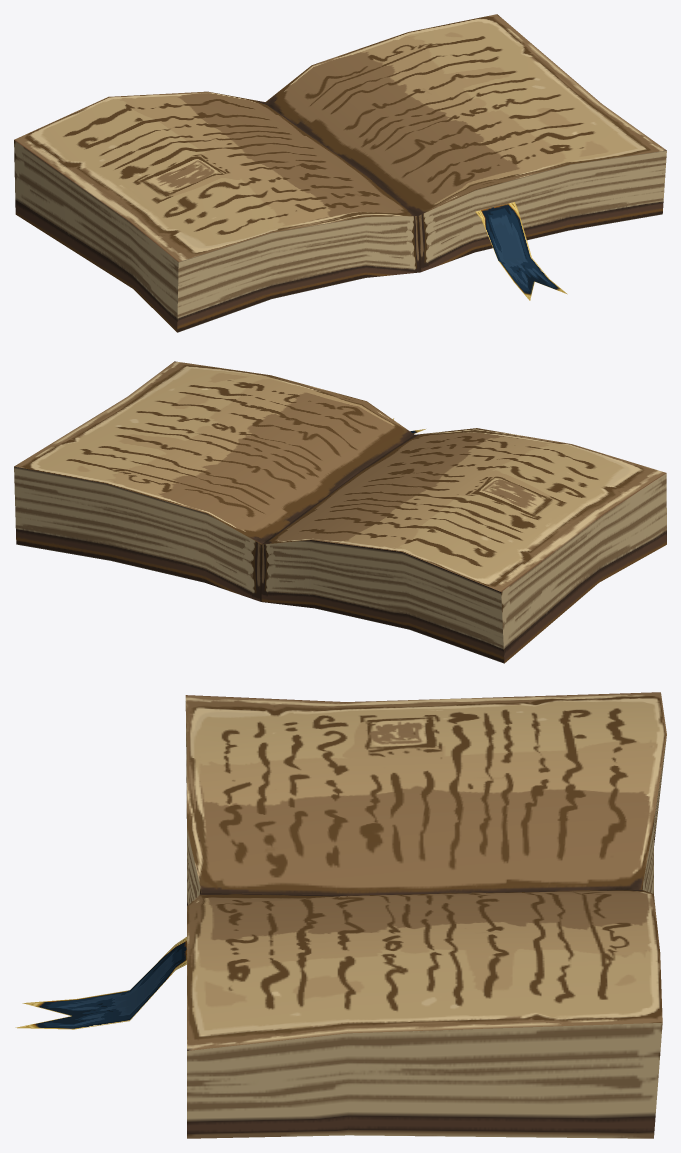
File: SM_PROP_book_dungeon_06.fbx
3 renders of one model, top to bottom at view 1: azimuth 30°, elevation 25°; view 2: azimuth 150°, elevation 25°; view 3: azimuth 270°, elevation 25°, orthographic. The views are drawn at different scales.
Visible parts, largest first — view 1: SM_PROP_book_dungeon_06; view 2: SM_PROP_book_dungeon_06; view 3: SM_PROP_book_dungeon_06.
Boxes of the visible parts, box(x1,y1,x2,y2) form: SM_PROP_book_dungeon_06: box(14, 14, 666, 332); SM_PROP_book_dungeon_06: box(14, 361, 666, 663); SM_PROP_book_dungeon_06: box(15, 692, 666, 1138).
Bounding box in the file's own units: 60.42 × 10.85 × 48.33.
